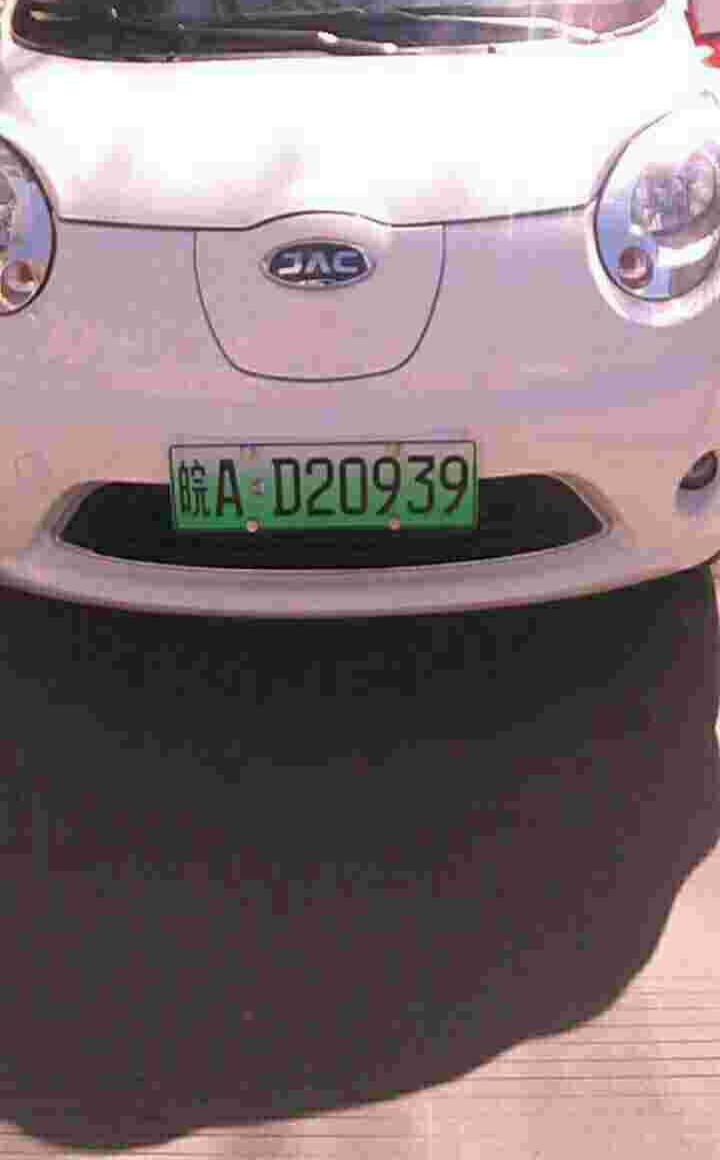car_id: (169, 443, 475, 532)
